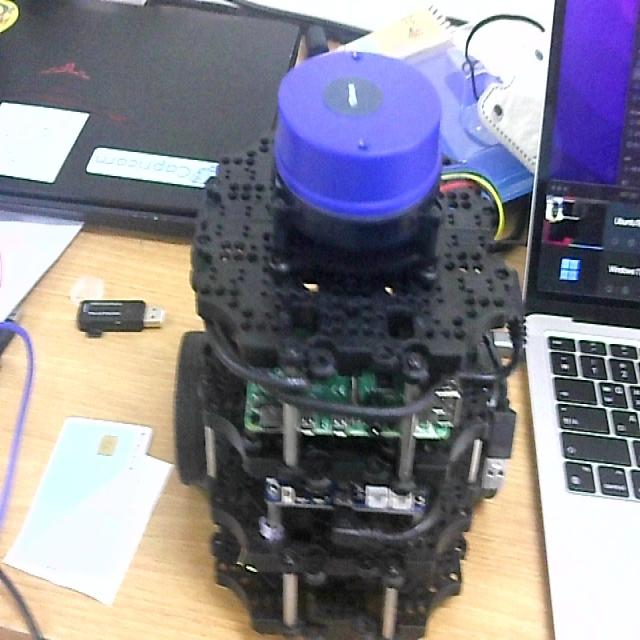turtle: (170, 46, 528, 640)
